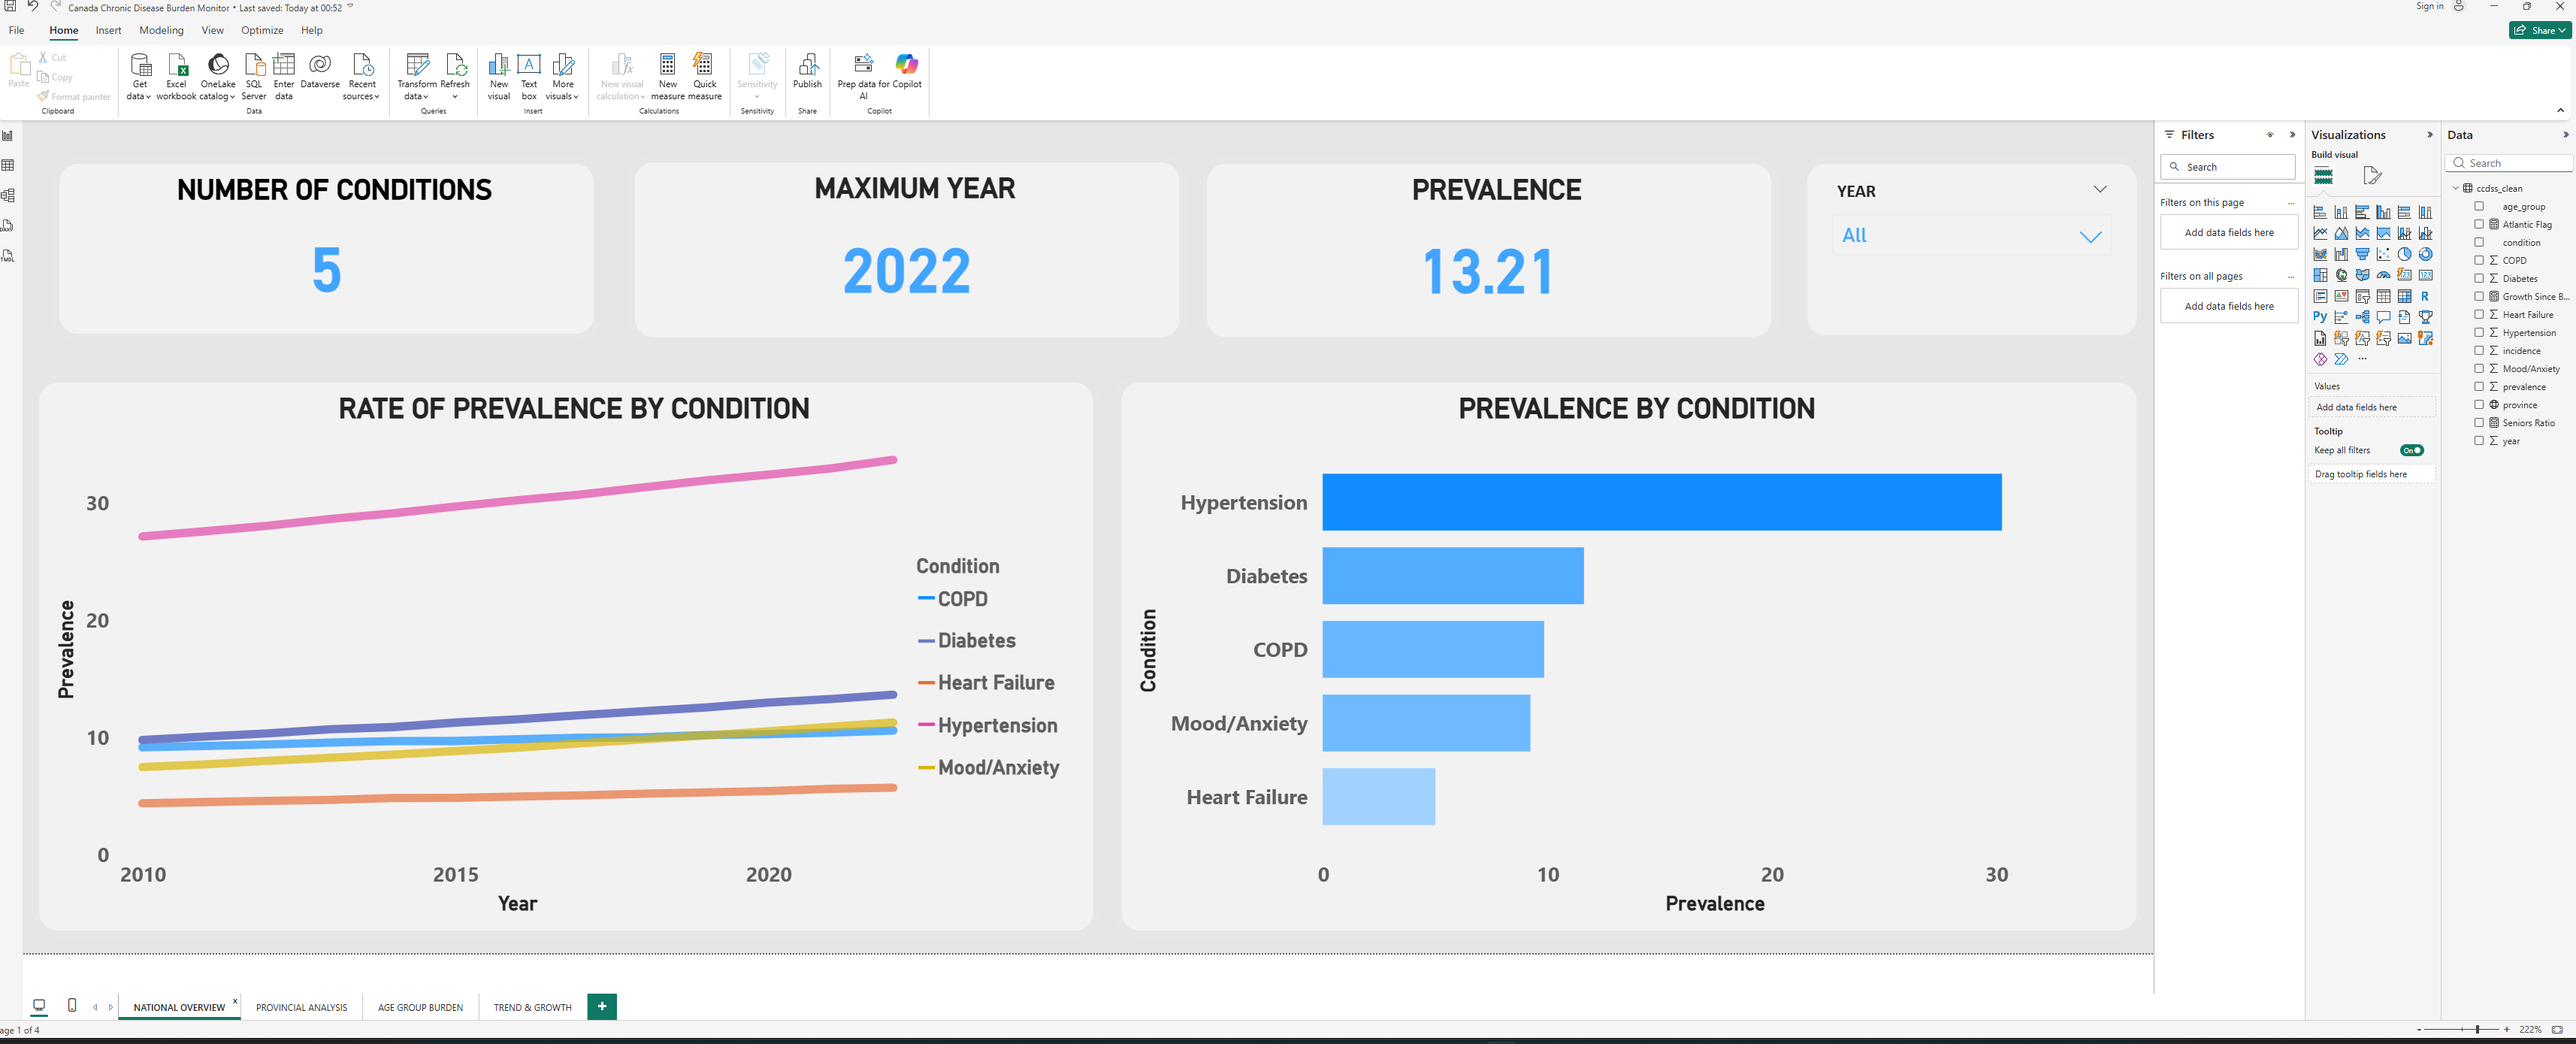

The dashboard page shown, as its layout file describes it:
{"tool":"powerbi","page":{"name":"NATIONAL OVERVIEW","canvas":[1280,500],"ordinal":0},"visuals":[{"type":"card","title":"NUMBER OF CONDITIONS","fields":{"Values":["Count(ccdss_clean.condition)"]},"box":[17.1,21.1,330.5,111.5],"z":0},{"type":"card","title":"PREVALENCE","fields":{"Values":["Avg(ccdss_clean.prevalence)"]},"box":[706.3,21.1,348.6,113.5],"z":1000},{"type":"card","title":"MAXIMUM YEAR","fields":{"Values":["Max(ccdss_clean.year)"]},"box":[362.7,20.1,336.6,114.5],"z":2000},{"type":"lineChart","title":"RATE OF PREVALENCE BY CONDITION","fields":{"Y":["Avg(ccdss_clean.prevalence)"],"Category":["ccdss_clean.year"],"Series":["ccdss_clean.condition"]},"box":[5,152.7,643,338.6],"z":3000},{"type":"clusteredBarChart","title":"PREVALENCE BY CONDITION","fields":{"Category":["ccdss_clean.condition"],"Y":["Avg(ccdss_clean.prevalence)"]},"box":[655.1,152.7,619.9,338.6],"z":4000},{"type":"slicer","fields":{"Values":["ccdss_clean.year"]},"box":[1067,21.1,208,112.5],"z":5000}]}

Visuals, with their boxes on the page's 1280x500 design canvas (x1, y1, x2, y2). These are canvas units, not pixel positions in the 2576x1044 screenshot, which may show the page scaled, cropped or inside an application window:
"NUMBER OF CONDITIONS" card: pyautogui.locateOnScreen(17, 21, 348, 133)
"PREVALENCE" card: pyautogui.locateOnScreen(706, 21, 1055, 135)
"MAXIMUM YEAR" card: pyautogui.locateOnScreen(363, 20, 699, 135)
"RATE OF PREVALENCE BY CONDITION" lineChart: pyautogui.locateOnScreen(5, 153, 648, 491)
"PREVALENCE BY CONDITION" clusteredBarChart: pyautogui.locateOnScreen(655, 153, 1275, 491)
slicer - ccdss_clean.year: pyautogui.locateOnScreen(1067, 21, 1275, 134)
